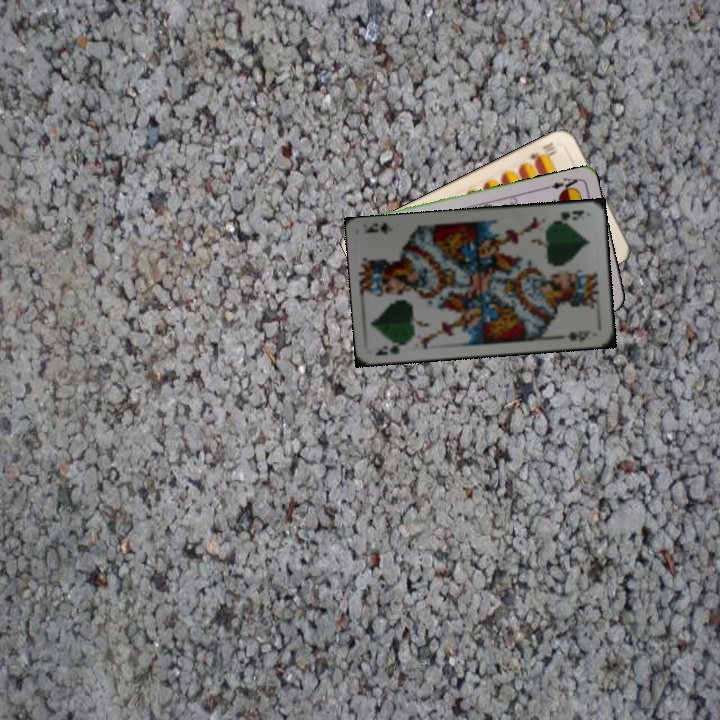E10: (525, 138, 557, 166)
EA: (541, 173, 581, 195)
GK: (371, 338, 410, 358), (556, 206, 587, 223)
